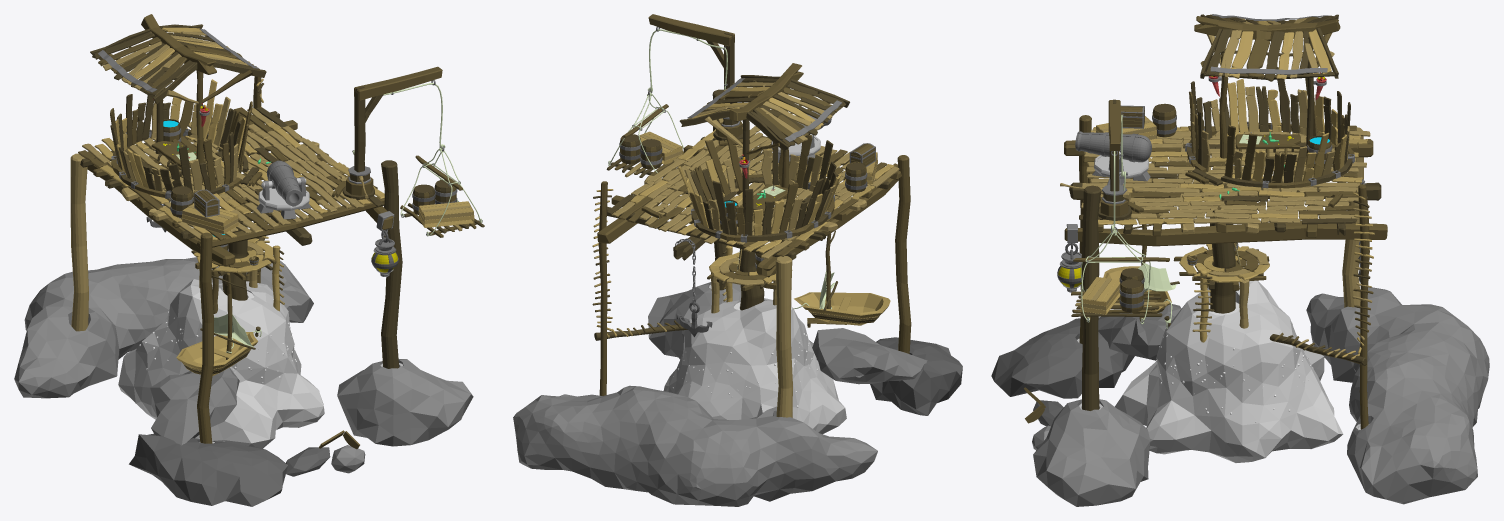
Rendered from LP_SeaShack.fbx.
3 views of the same model, side by side, from view 1: azimuth 30°, elevation 25°; view 2: azimuth 150°, elevation 25°; view 3: azimuth 270°, elevation 25° (orthographic). The views are drawn at different scales.
Visible parts, largest first — view 1: Icosphere.004, Icosphere, Cube.131, Icosphere.001, Cube.050, Icosphere.002, Roof, Icosphere.003, Cylinder.012, Cylinder.008, Cylinder.010, Cube.004 (+14 smaller); view 2: Icosphere.004, Icosphere, Cube.131, Cube.050, Icosphere.003, Roof, Icosphere.002, Icosphere.001, Cylinder.012, Cylinder.010, Plane.001, Cylinder.014 (+8 smaller); view 3: Icosphere.004, Icosphere, Cube.131, Cube.050, Icosphere.001, Icosphere.002, Roof, Cube.009, Cylinder.008, Icosphere.003, Cylinder.014, Cube.014 (+14 smaller).
Part boxes in pixels (x1=…): Icosphere.004: x1=14, y1=257, x2=313, y2=398; Icosphere: x1=118, y1=279, x2=324, y2=448; Cube.131: x1=78, y1=107, x2=384, y2=240; Icosphere.001: x1=337, y1=359, x2=473, y2=446; Cube.050: x1=110, y1=79, x2=252, y2=194; Icosphere.002: x1=129, y1=433, x2=287, y2=506; Roof: x1=93, y1=27, x2=259, y2=95; Icosphere.003: x1=150, y1=367, x2=239, y2=445; Cylinder.012: x1=70, y1=153, x2=88, y2=331; Cylinder.008: x1=381, y1=160, x2=402, y2=368; Cylinder.010: x1=197, y1=232, x2=214, y2=443; Cube.004: x1=196, y1=196, x2=384, y2=248; Icosphere.004: x1=513, y1=385, x2=877, y2=506; Icosphere: x1=663, y1=298, x2=846, y2=434; Cube.131: x1=607, y1=124, x2=899, y2=259; Cube.050: x1=678, y1=133, x2=841, y2=236; Icosphere.003: x1=812, y1=328, x2=927, y2=384; Roof: x1=688, y1=78, x2=843, y2=146; Icosphere.002: x1=870, y1=337, x2=962, y2=415; Icosphere.001: x1=648, y1=282, x2=741, y2=359; Cylinder.012: x1=775, y1=256, x2=792, y2=417; Cylinder.010: x1=895, y1=155, x2=911, y2=353; Plane.001: x1=794, y1=292, x2=890, y2=325; Cylinder.014: x1=598, y1=181, x2=607, y2=395; Icosphere.004: x1=1306, y1=287, x2=1489, y2=504; Icosphere: x1=1115, y1=280, x2=1343, y2=462; Cube.131: x1=1079, y1=125, x2=1370, y2=225; Cube.050: x1=1189, y1=67, x2=1350, y2=182; Icosphere.001: x1=1033, y1=399, x2=1150, y2=506; Icosphere.002: x1=991, y1=313, x2=1134, y2=398; Roof: x1=1205, y1=14, x2=1333, y2=81; Cube.009: x1=1064, y1=220, x2=1387, y2=246; Cylinder.008: x1=1081, y1=185, x2=1101, y2=410; Icosphere.003: x1=1098, y1=304, x2=1181, y2=360; Cylinder.014: x1=1358, y1=184, x2=1369, y2=429; Cube.014: x1=1194, y1=16, x2=1340, y2=41.
Size of the model in its own units: 1633 by 1626 by 1827.
